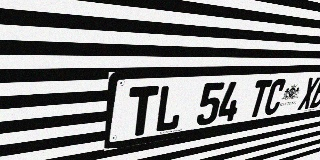4: (216, 81, 244, 123)
5: (195, 82, 225, 126)
B: (309, 76, 320, 108)
C: (262, 79, 288, 116)
L: (154, 84, 186, 133)
T: (125, 86, 159, 138), (246, 80, 273, 118)
X: (297, 77, 320, 110)
